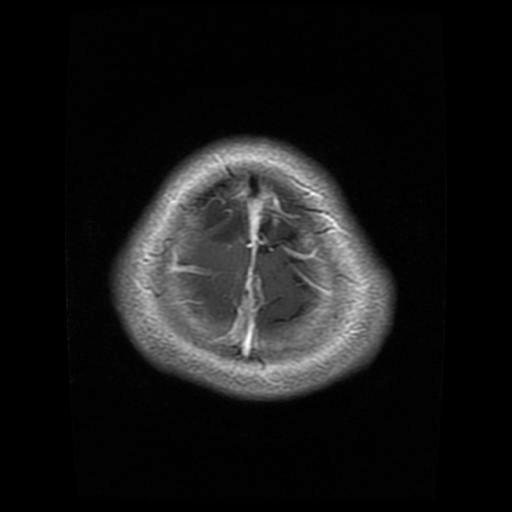Tumour-Glioma: (202, 198, 244, 249)
